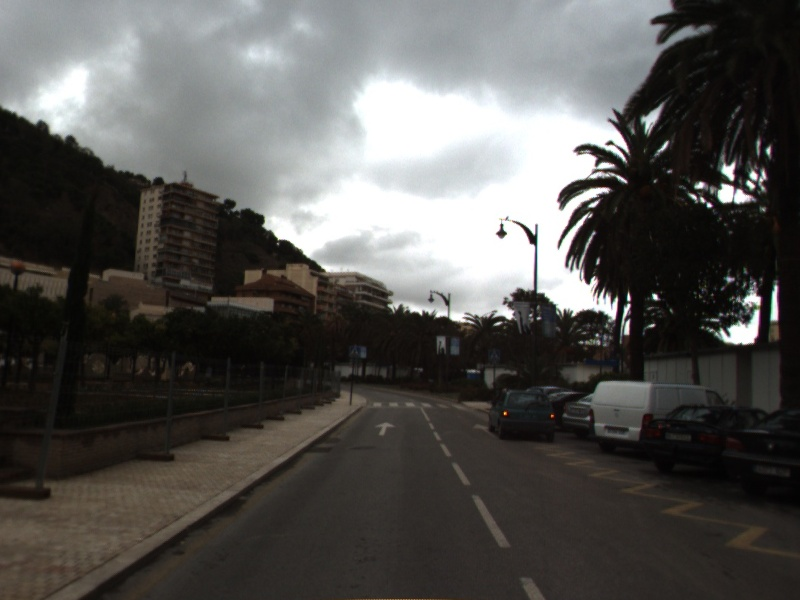STRAIGHT: (471, 422, 500, 440), (373, 420, 398, 438)
